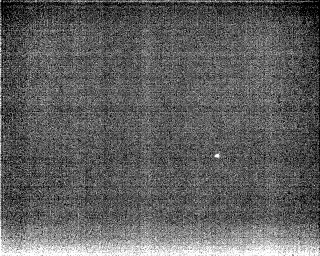AIRPLANE: (212, 150, 222, 162)
